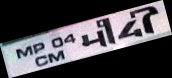character: (118, 19, 143, 40), (15, 45, 33, 59), (47, 49, 65, 63), (35, 54, 47, 67), (50, 37, 63, 48), (33, 42, 44, 54), (63, 33, 75, 43)
